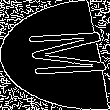M_E: (5, 29, 105, 81)
